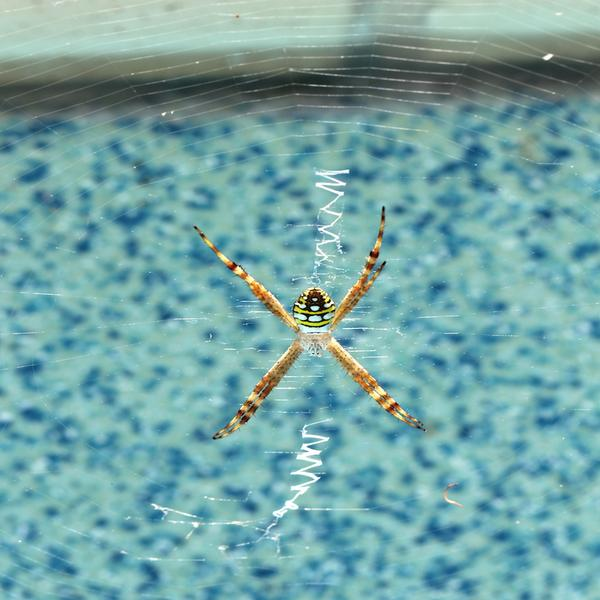St Andrew's Cross Spider: (191, 218, 424, 439)
